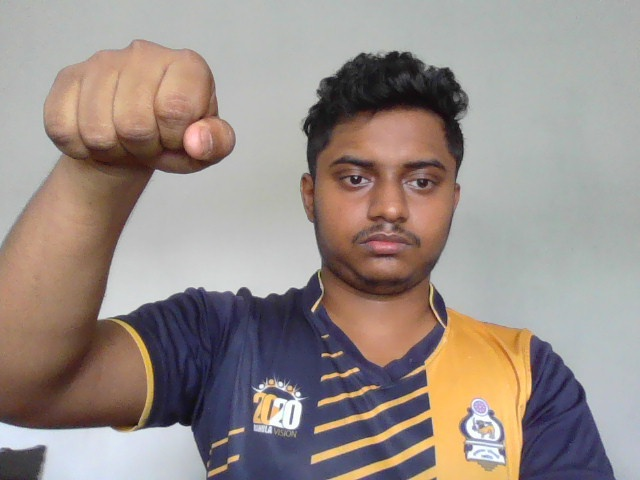Yes: (42, 37, 242, 176)
